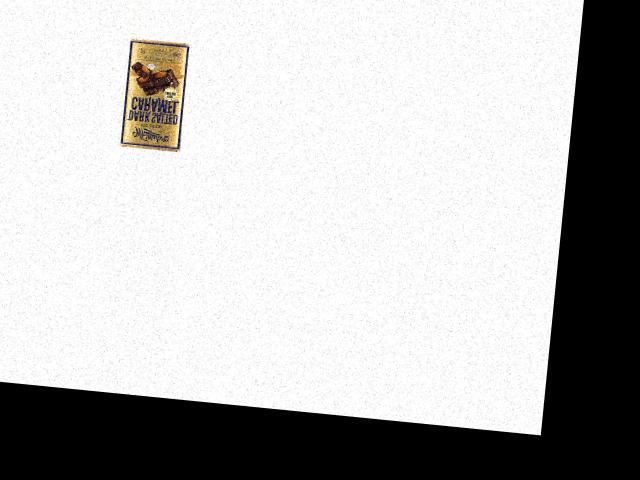chocolate: (118, 35, 195, 151)
